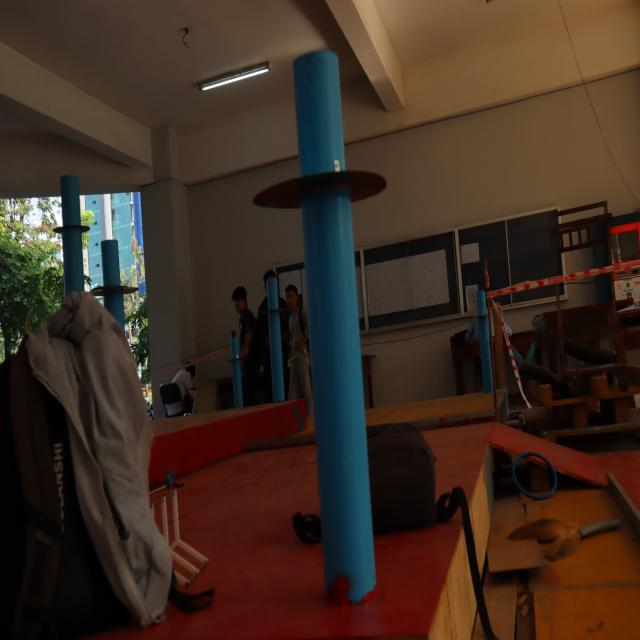pole: (245, 44, 393, 261), (41, 170, 94, 262), (88, 235, 142, 324), (255, 276, 287, 337), (468, 287, 497, 347), (220, 331, 248, 379)
